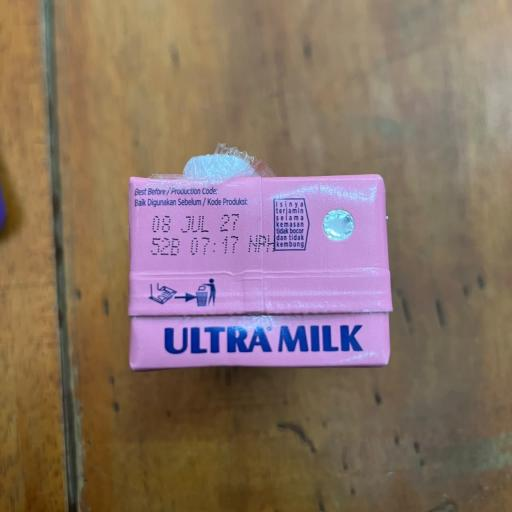Ultramilk Strawberry 200ml: (124, 167, 401, 376)
